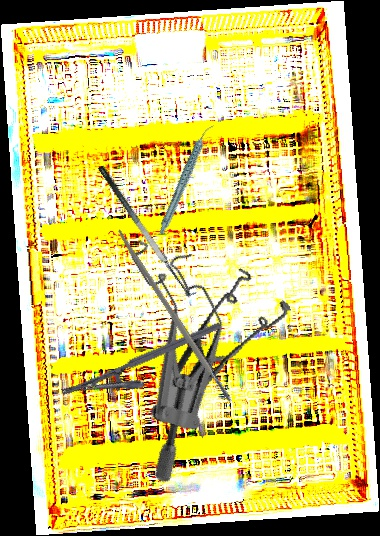Handpiece: (138, 122, 235, 237)
Needle Holder: (60, 320, 231, 419)
Scalpel Handle: (114, 227, 234, 406)
Spatula Surgical: (97, 157, 201, 302)
Speculum: (57, 219, 279, 486), (125, 257, 311, 421)
